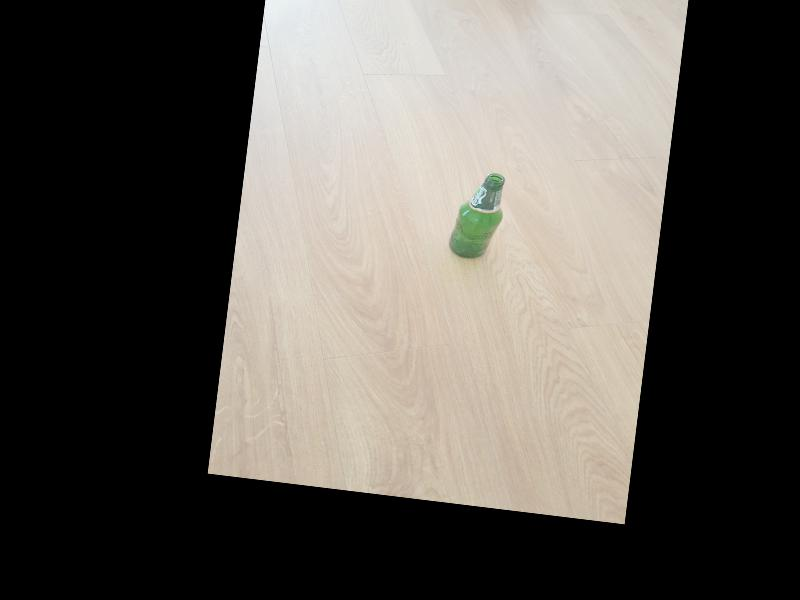Beer: (446, 167, 508, 262)
